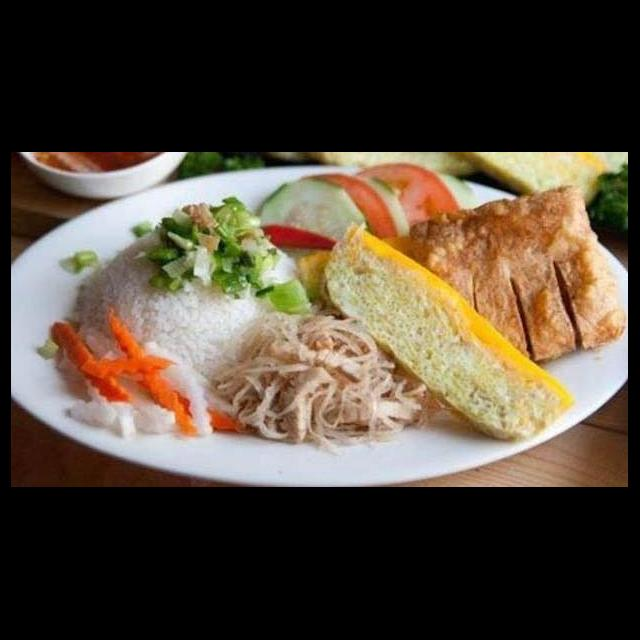bi: (300, 254, 554, 378)
cha: (133, 180, 555, 320)
com: (116, 324, 448, 456)
com suon bi cha trung: (12, 173, 628, 488)
dua chua: (289, 354, 556, 466)
suon: (437, 196, 619, 327)
